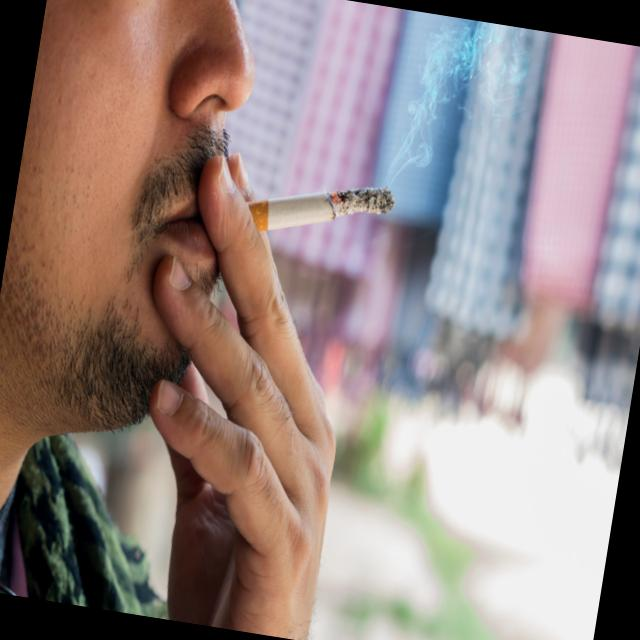smoke: (232, 156, 400, 265)
